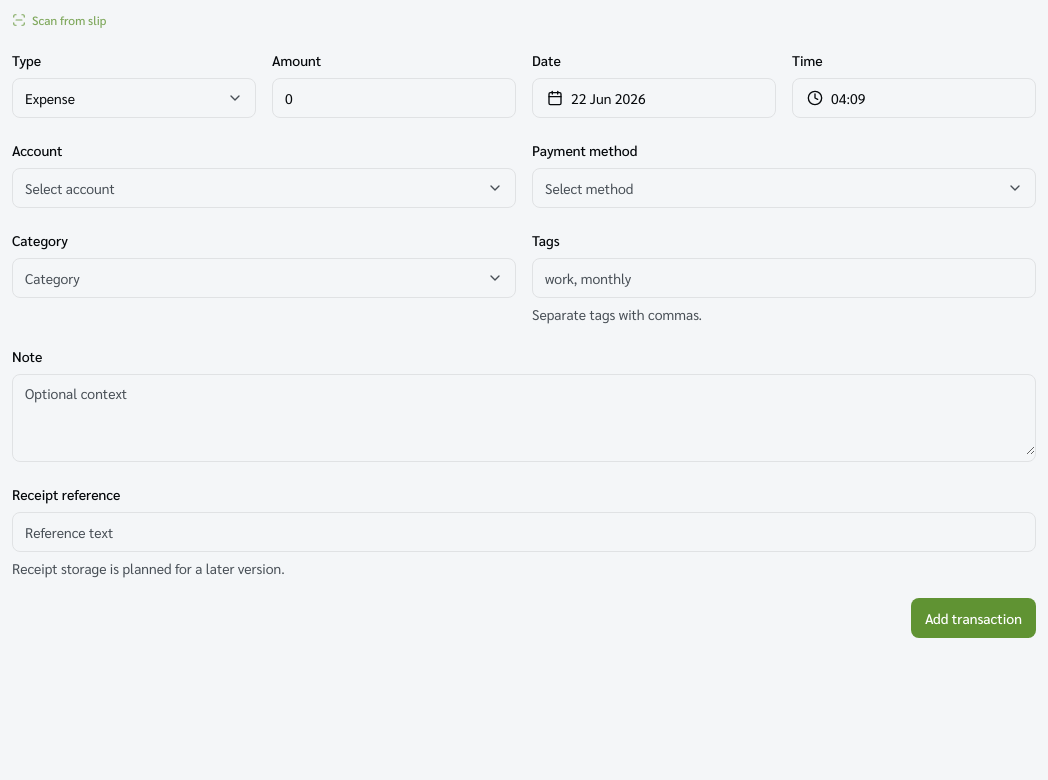
Test case: TransactionForm › shows validation errors for an incomplete expense
Click the button "Add transaction" at (974, 618), box 911,598 -> 1036,638
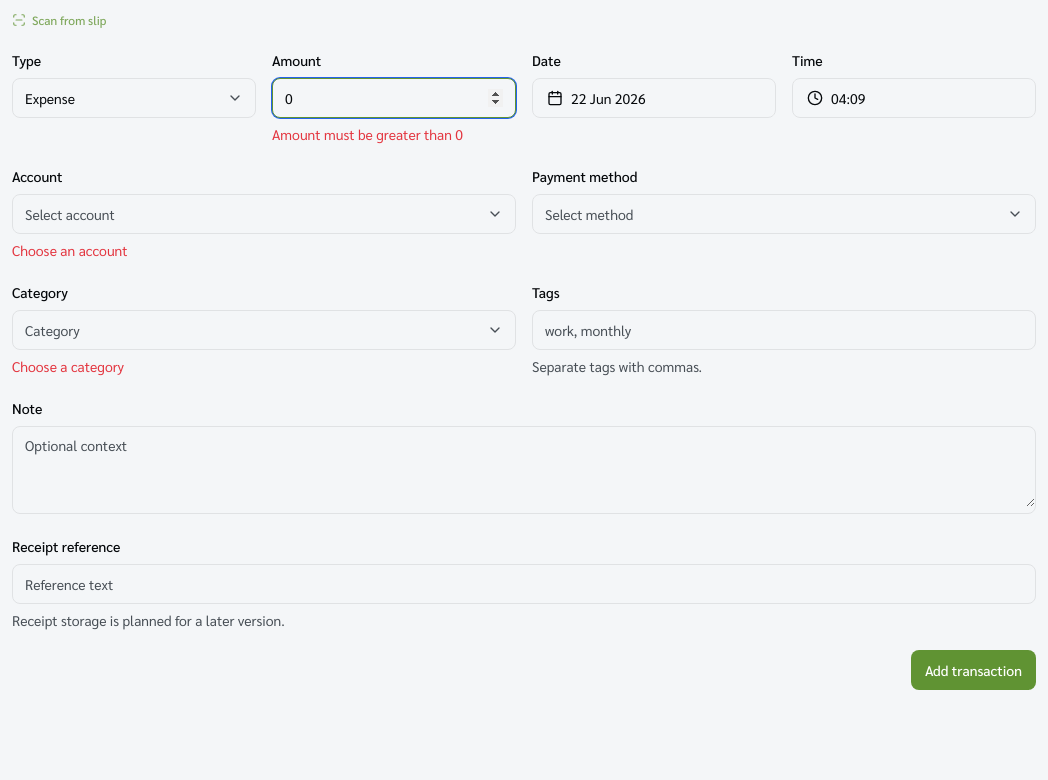
Expected: the text "Amount must be greater than 0" is shown, 272,125 -> 463,143
Expected: the text "Choose a category" is shown, 12,357 -> 124,375
Expected: the text "Choose an account" is shown, 12,241 -> 128,259
